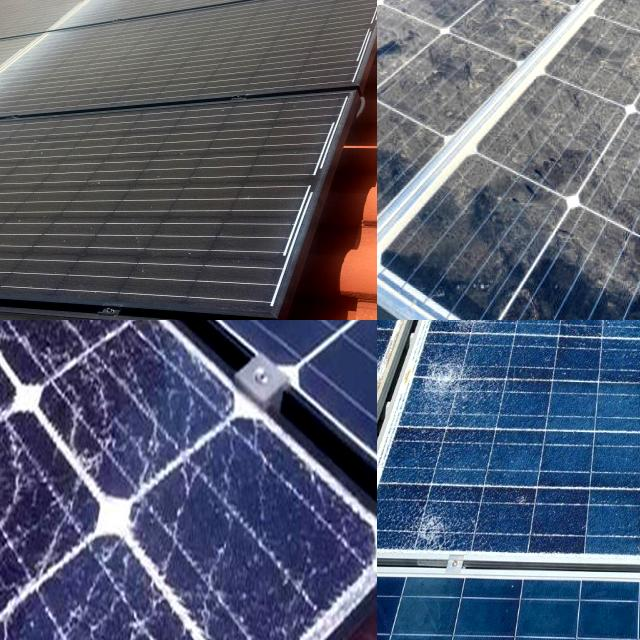dust: (64, 200, 294, 298), (402, 0, 519, 85), (557, 202, 640, 320), (450, 194, 528, 314), (377, 0, 423, 195), (523, 94, 608, 190), (537, 0, 617, 91), (0, 204, 78, 275), (525, 0, 632, 50)
hotspot: (42, 405, 168, 594), (0, 399, 78, 559), (390, 486, 458, 572), (407, 344, 462, 423), (446, 320, 514, 359), (377, 323, 397, 391), (596, 320, 640, 345), (542, 320, 580, 341)
